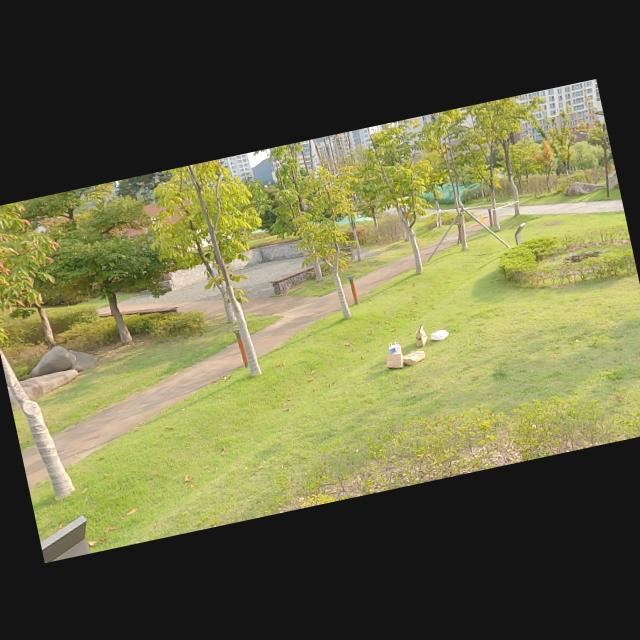trash: (401, 344, 428, 368), (380, 348, 406, 371), (410, 321, 430, 348), (384, 337, 404, 362), (427, 324, 450, 344)
